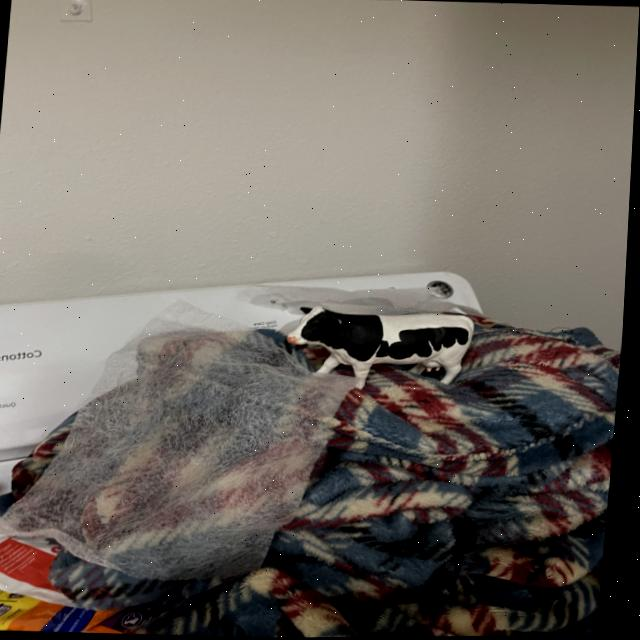cow: (288, 303, 478, 396)
